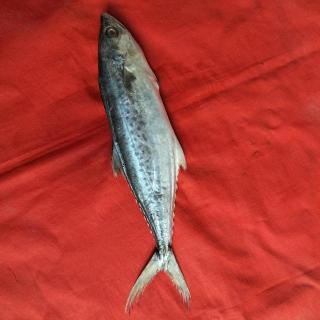Ikan: (94, 9, 196, 301)
